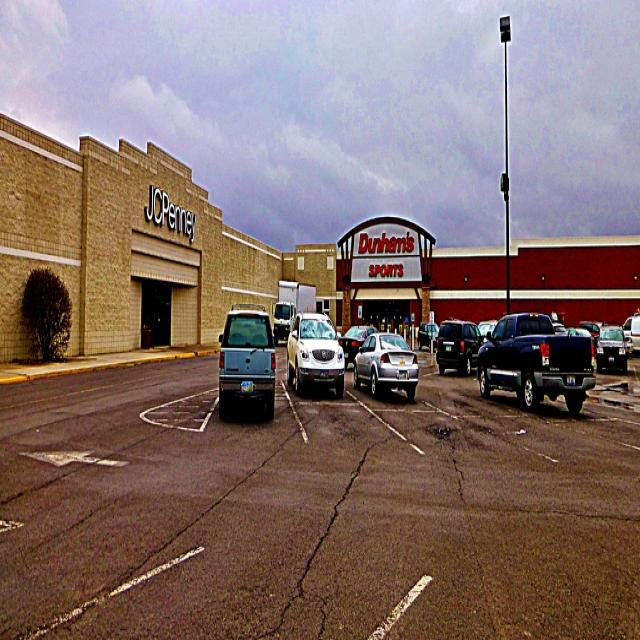car: (214, 299, 277, 421)
